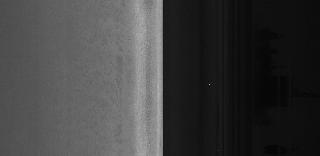silk spot: (90, 54, 130, 106)
